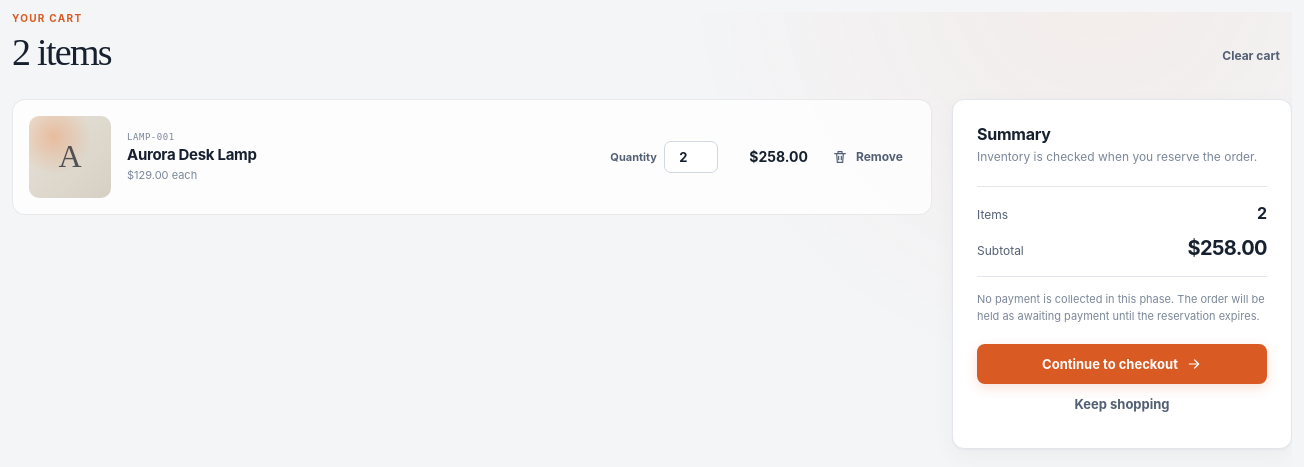
Test case: StoreCartPage › removes an item and shows the empty state
The image size is (1304, 467).
Click the button with aria-label "Remove Aurora Desk Lamp from cart" at (867,157), box 820,140 -> 915,173
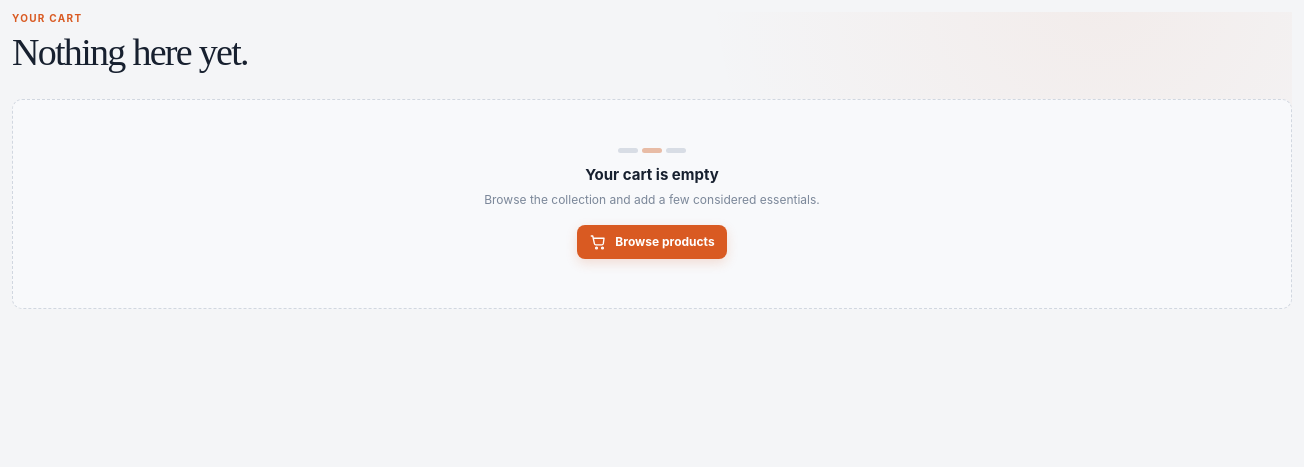
Check: the heading "Your cart is empty" is shown, box 585,165 -> 719,184
Check: the link "Aurora Desk Lamp" is gone
